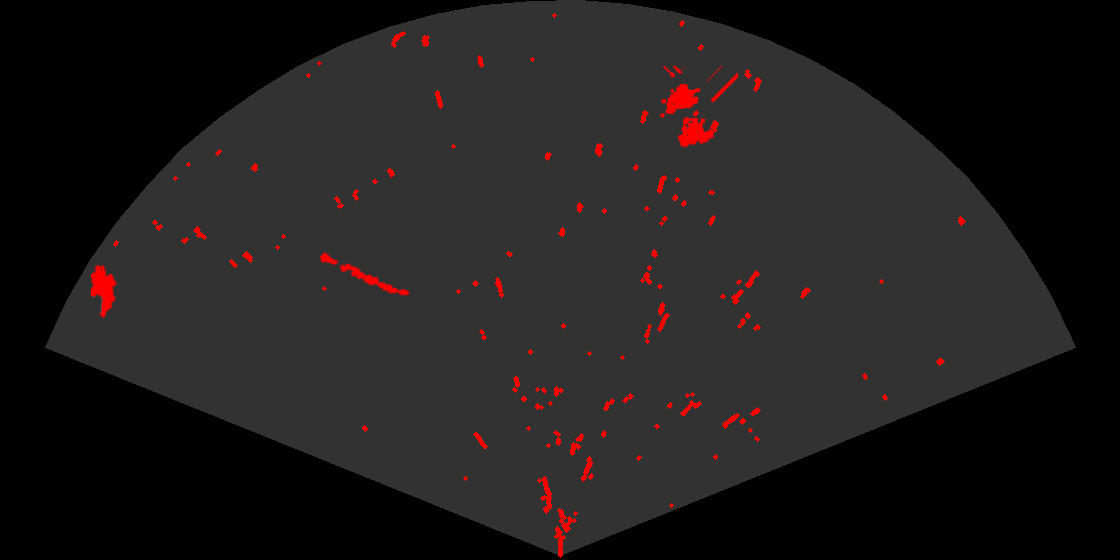AUV: (89, 263, 118, 320)
cage: (659, 66, 738, 149)
chain: (318, 250, 411, 297)
